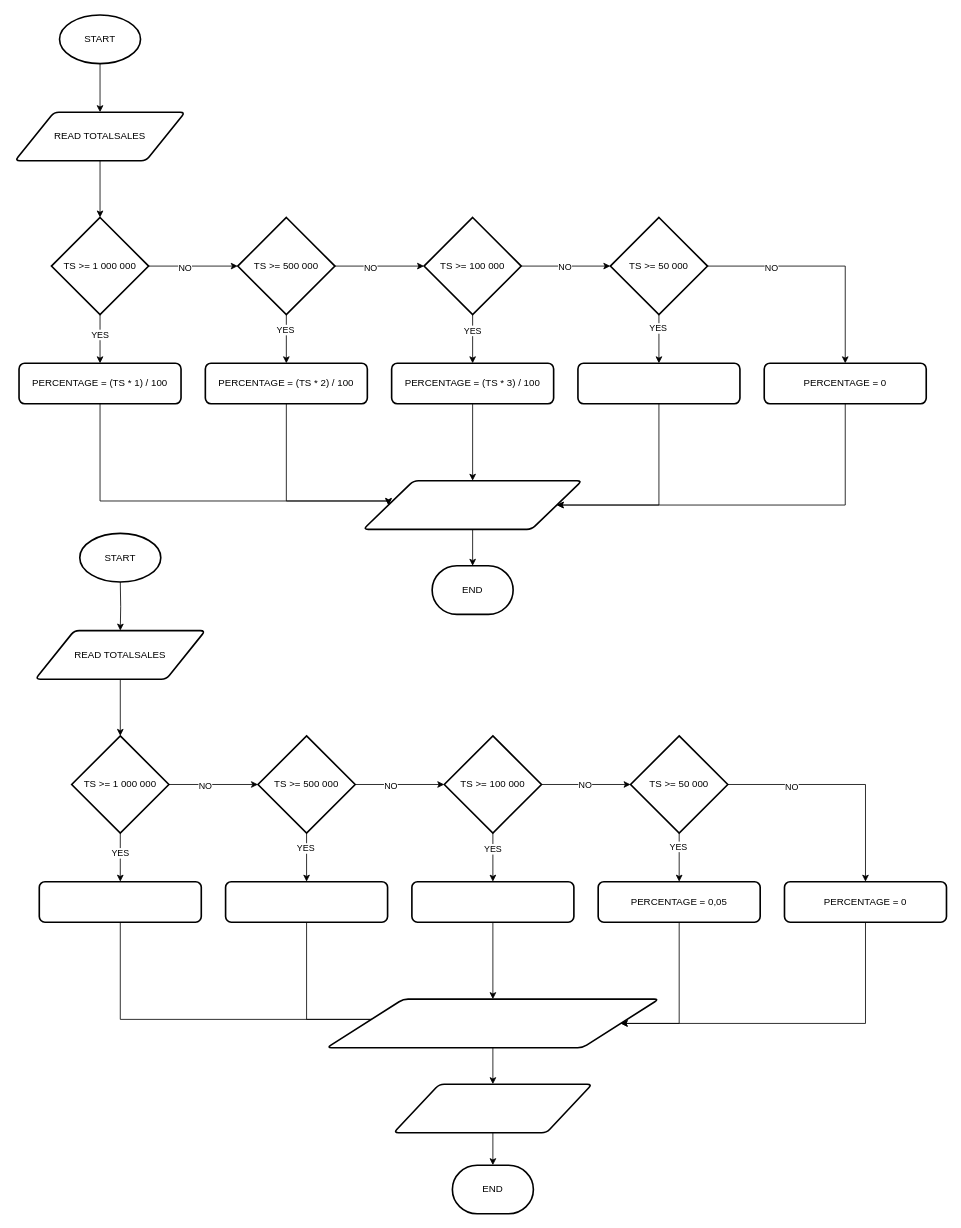
Image size: 961x1228. Some labels were removed from this diagram. Each missing label, with the centre of its shape:
"PERCENTAGE = (TS * 5) / 100" goes at (658,383).
"PERCENTAGE = 0,01" goes at (120,901).
"PERCENTAGE = 0,02" goes at (306,901).
"PERCENTAGE = 0,03" goes at (492,901).
"PRINT PRECENTAGE" goes at (472,505).
"PRINT TOTALCOMISSION" goes at (492,1108).
"TOTALCOMISSION = TS * PRECENTAGE" goes at (492,1023).
